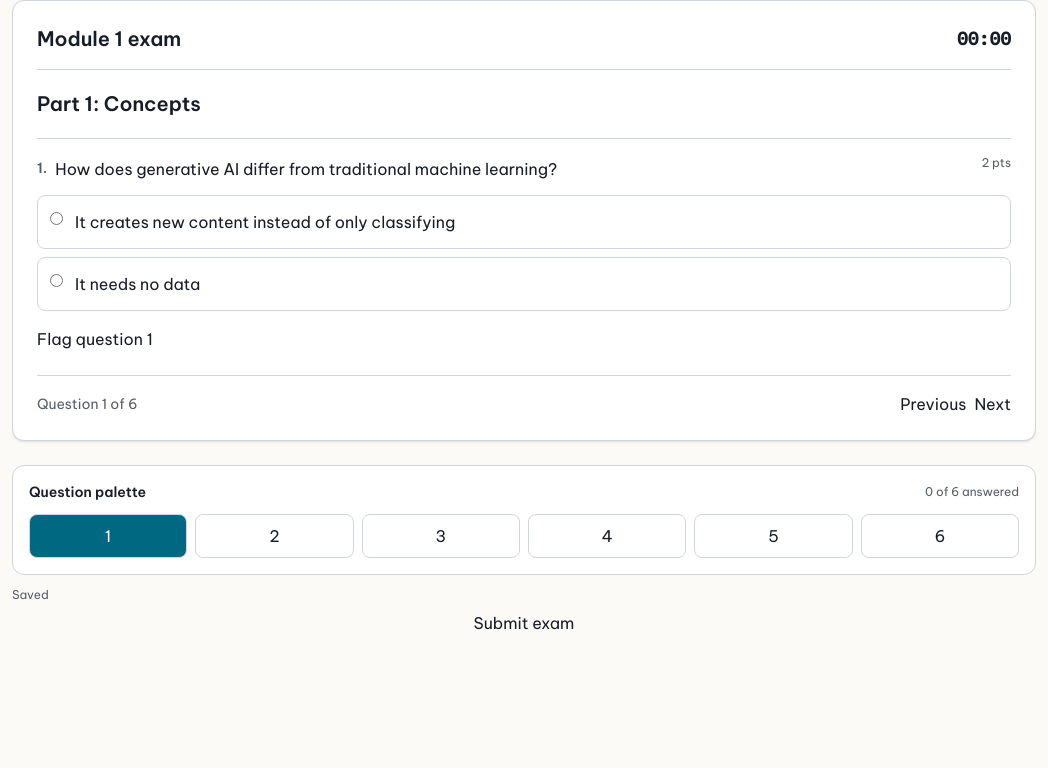
Test: ExamPlayer › reports when session recovery storage cannot retain a pending answer
Click the radio button labelled "It creates new content instead of only classifying" at (56, 218), box [50,212,63,225]
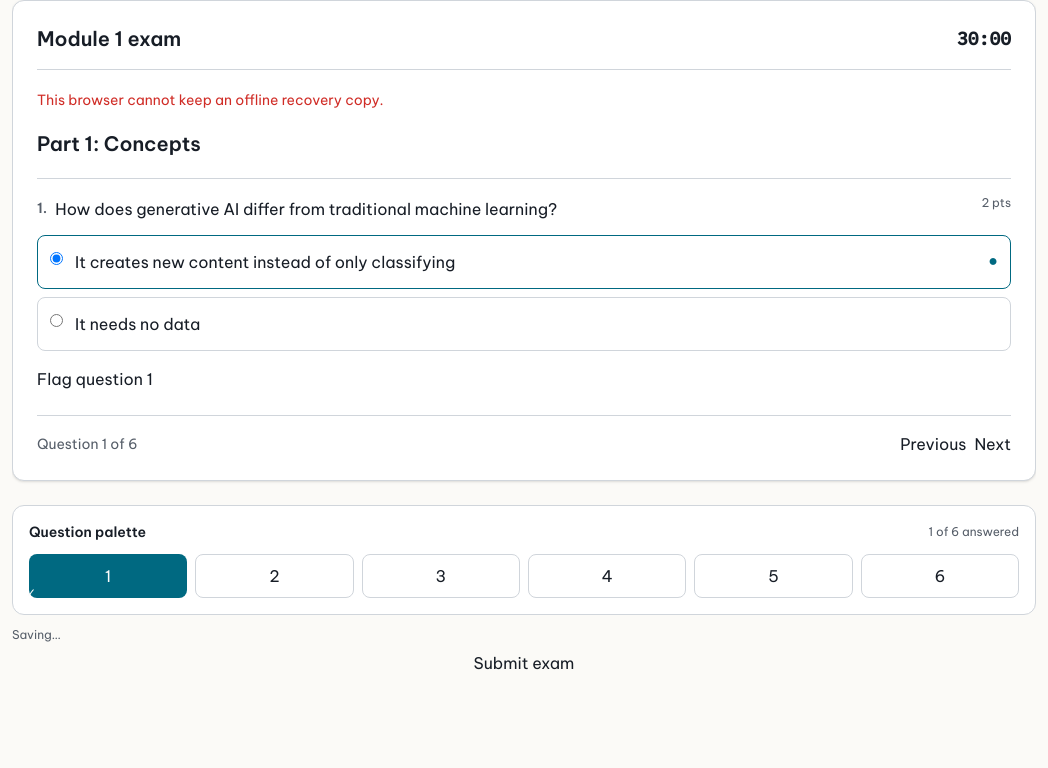
Result: the message "This browser cannot keep an offline recovery copy." is shown at [37,91,384,109]
